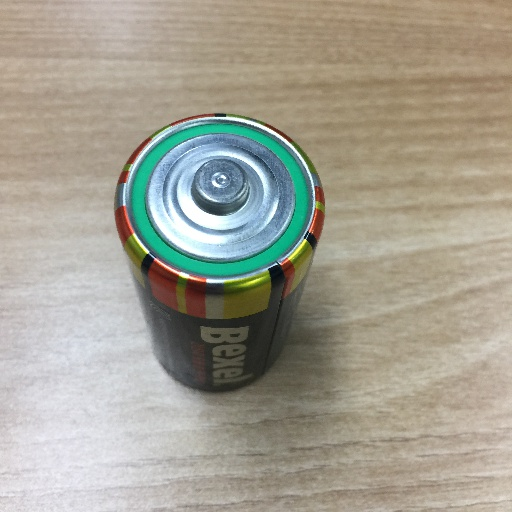Battery_0: (107, 98, 336, 397)
